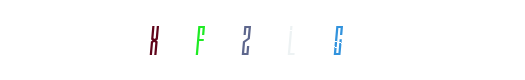F: (159, 0, 239, 80)
G: (298, 0, 378, 80)
L: (222, 0, 302, 80)
X: (114, 0, 194, 80)
Z: (179, 0, 259, 80)
